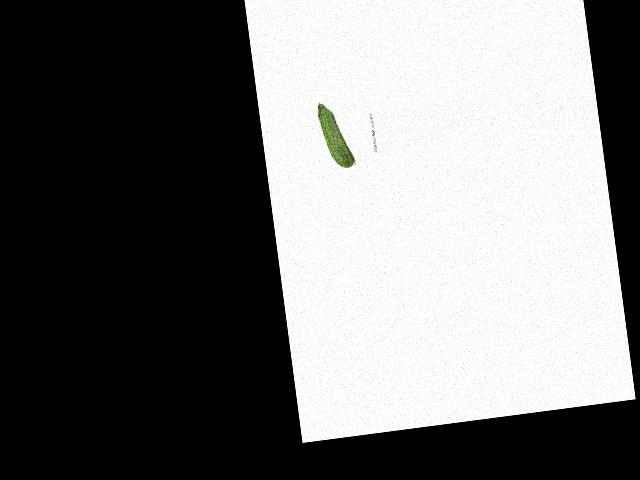cucumber: (316, 98, 354, 169)
